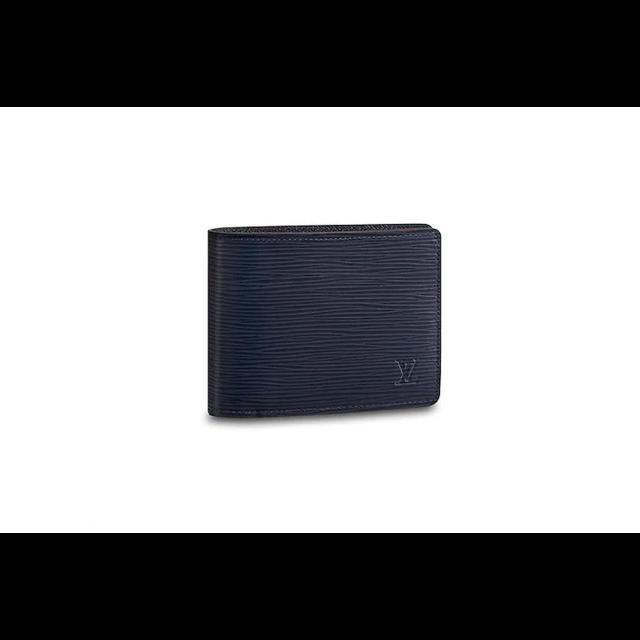Wallet: (202, 219, 443, 415)
